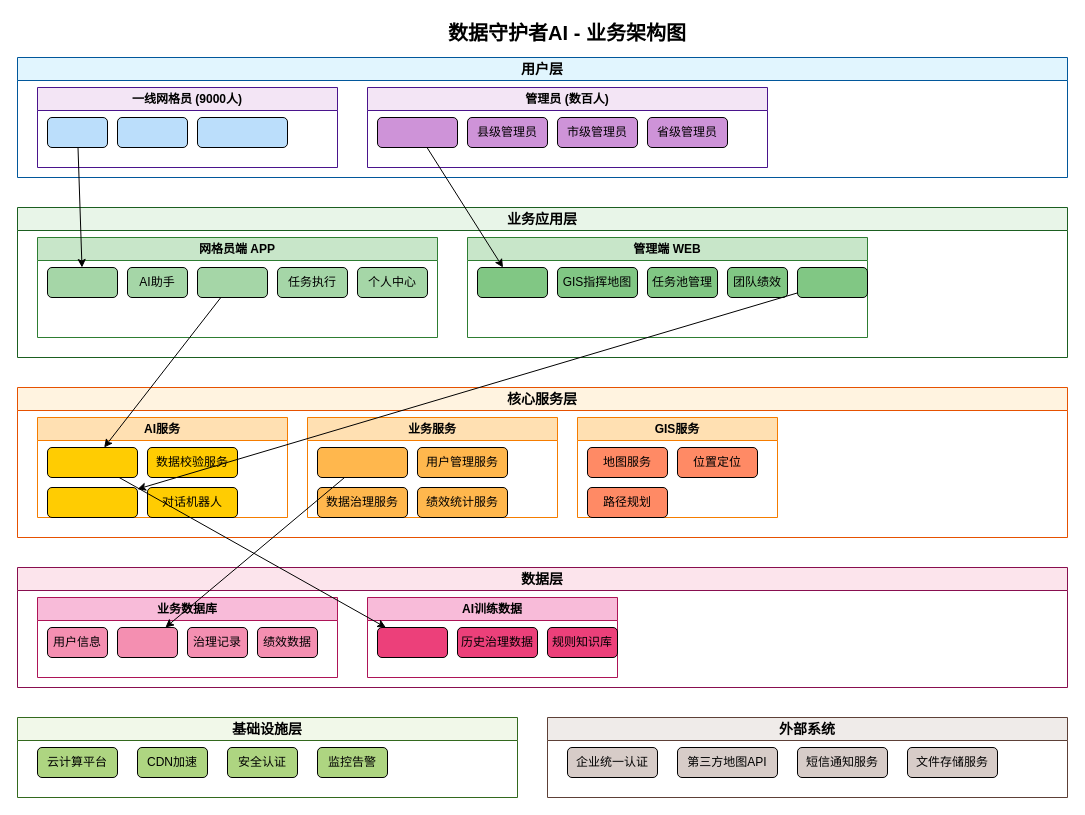
Image size: 1085x815. Some labels were removed from this diagram. Here are the shapes that lost their labels. From the top down, the centre of each, then its label:
(77,132): 网格员
(152,132): 户外作业
(242,132): 数据采集修正
(417,132): 供电所所长
(82,282): 智能工作台
(232,282): 慧眼扫描
(512,282): 治理驾驶舱
(832,282): AI智能派单
(92,462): OCR识别服务
(362,462): 任务管理服务
(92,502): 智能派单算法
(147,642): 任务数据
(412,642): OCR训练集
